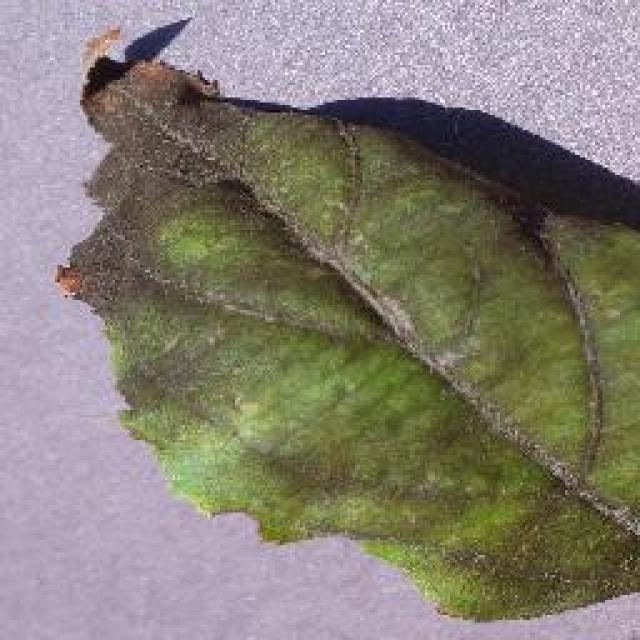apple scab disease: (52, 15, 638, 625)
